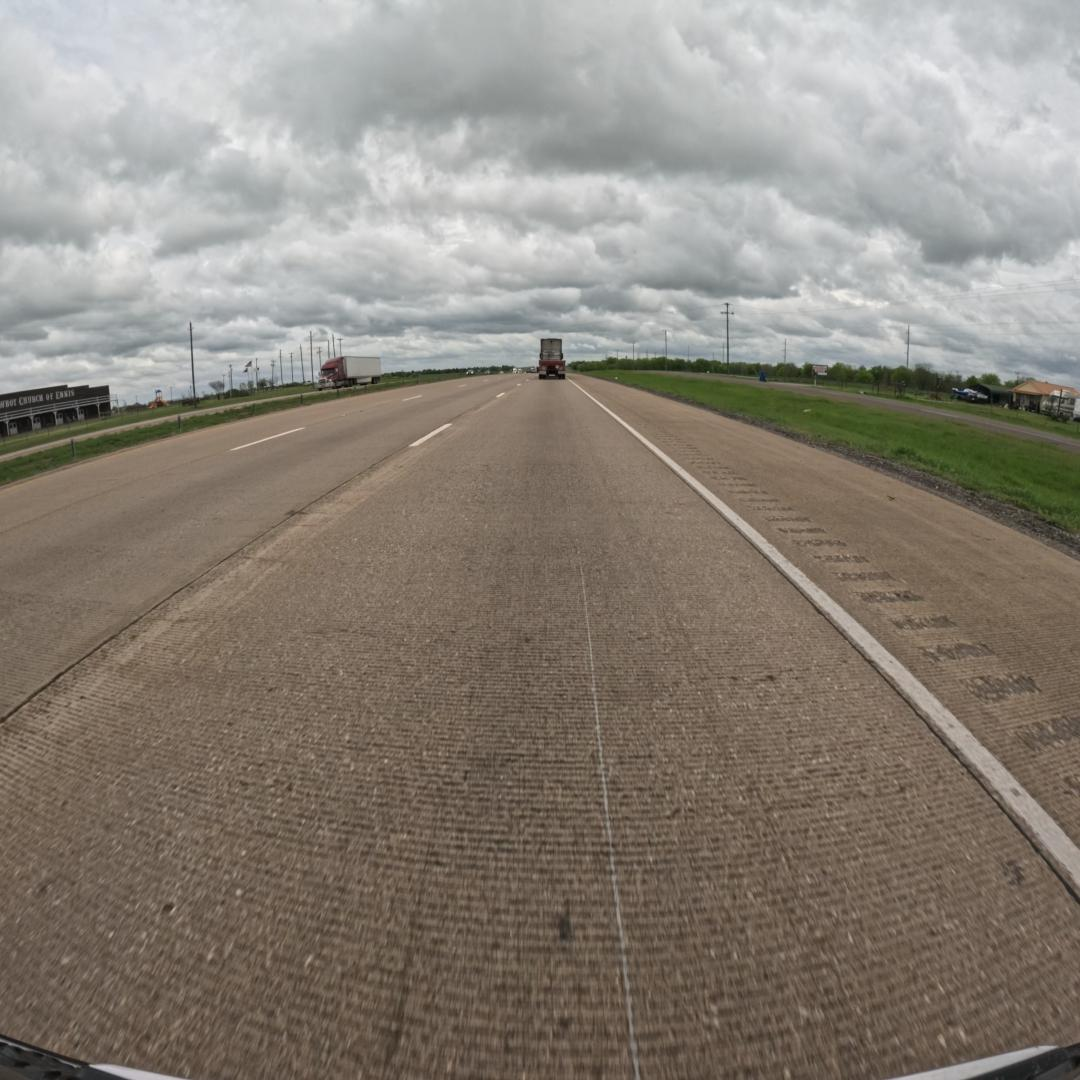lane0: (0, 382, 1080, 1077)
lane1: (0, 376, 519, 718)
